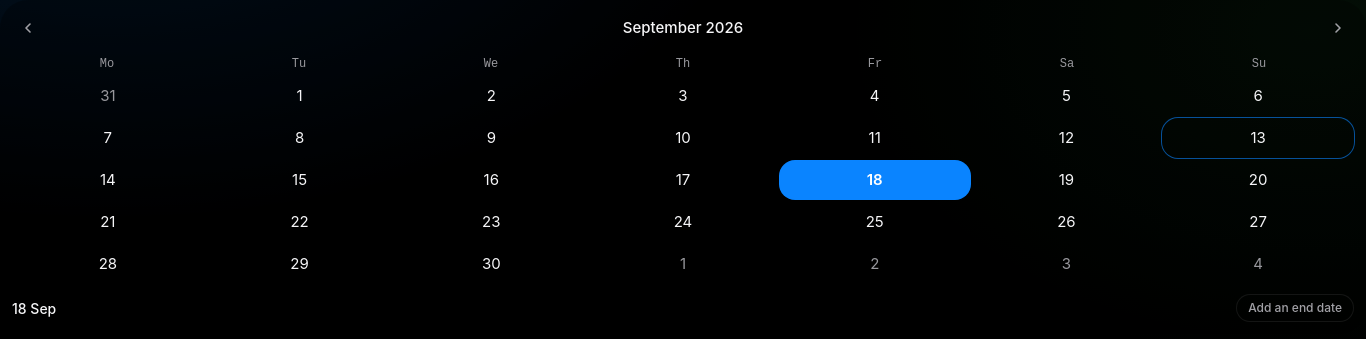
Scenario: picking a day, or a run of them › walks to another month without touching what is chosen
Click the button named "Next month" at (1338, 28), box [1322, 12, 1354, 44]
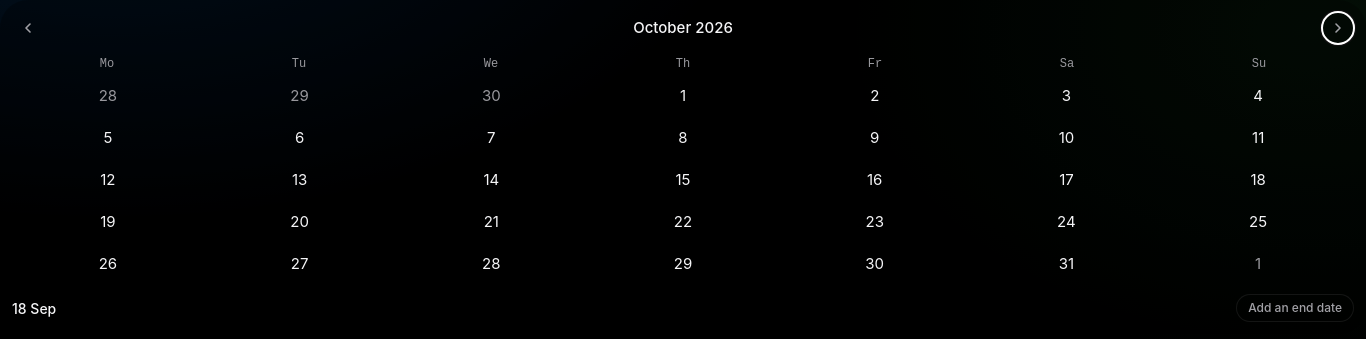
Expected: the text "October 2026" is shown, [633, 18, 733, 38]
Click the button named "Previous month" at (28, 28), box [12, 12, 44, 44]
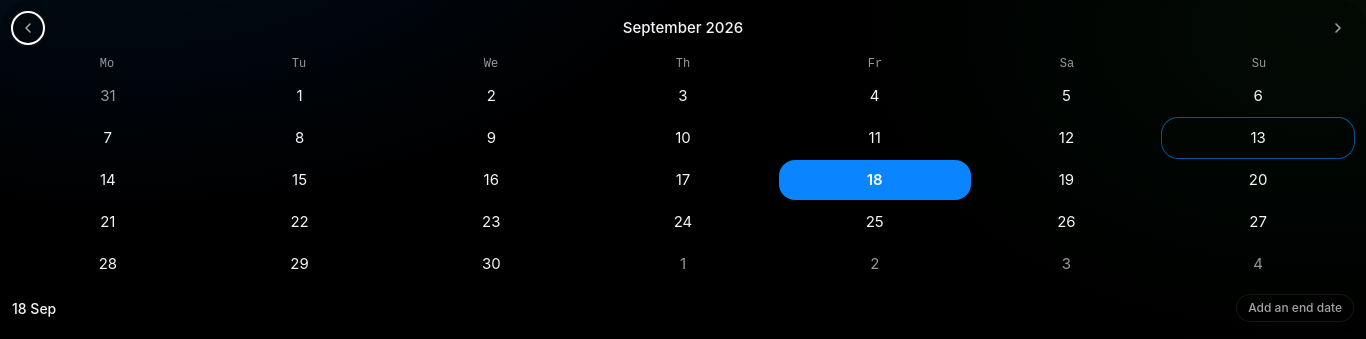
Expected: the text "September 2026" is shown, [623, 18, 743, 38]
